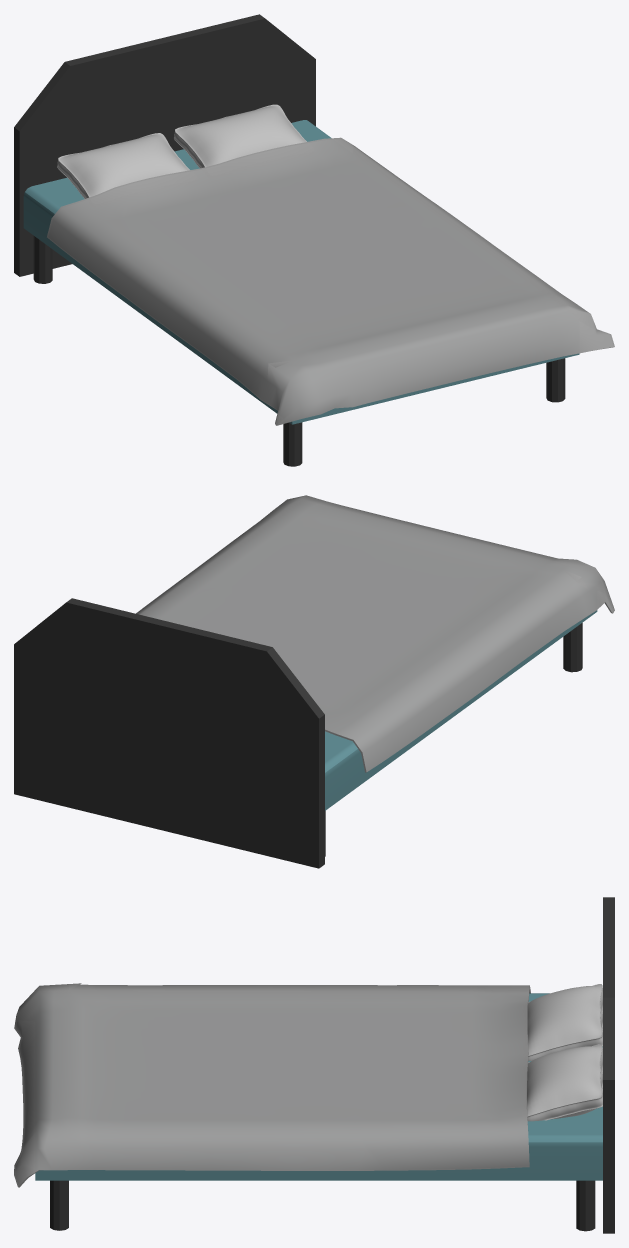
The model's file is bett.fbx.
3 views of the same model, one above another, from view 1: azimuth 30°, elevation 25°; view 2: azimuth 150°, elevation 25°; view 3: azimuth 270°, elevation 25° (orthographic). The views are drawn at different scales.
Parts seen in each view (by area): view 1: bed; view 2: bed; view 3: bed.
Boxes of the visible parts, box(x1,y1,x2,y2) form: bed: box(14, 14, 614, 466); bed: box(14, 495, 614, 868); bed: box(14, 897, 614, 1233).
Size of the model in its own units: 8.67 by 5 by 12.89.
